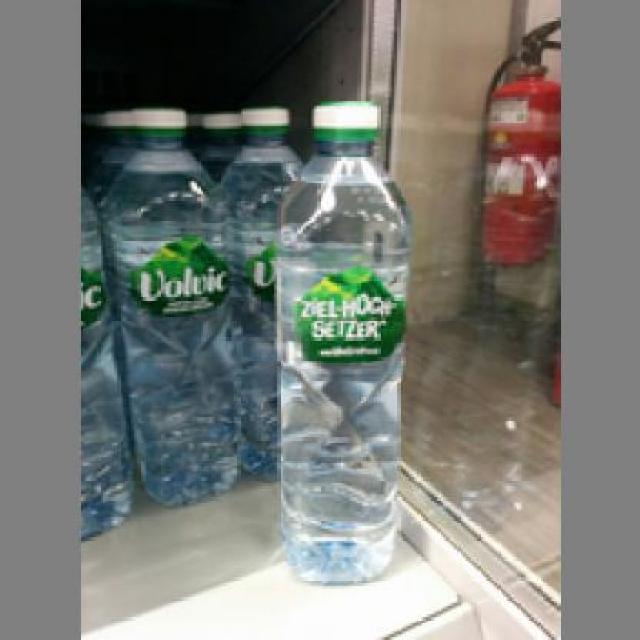Water: (272, 97, 412, 586), (100, 103, 243, 506)
